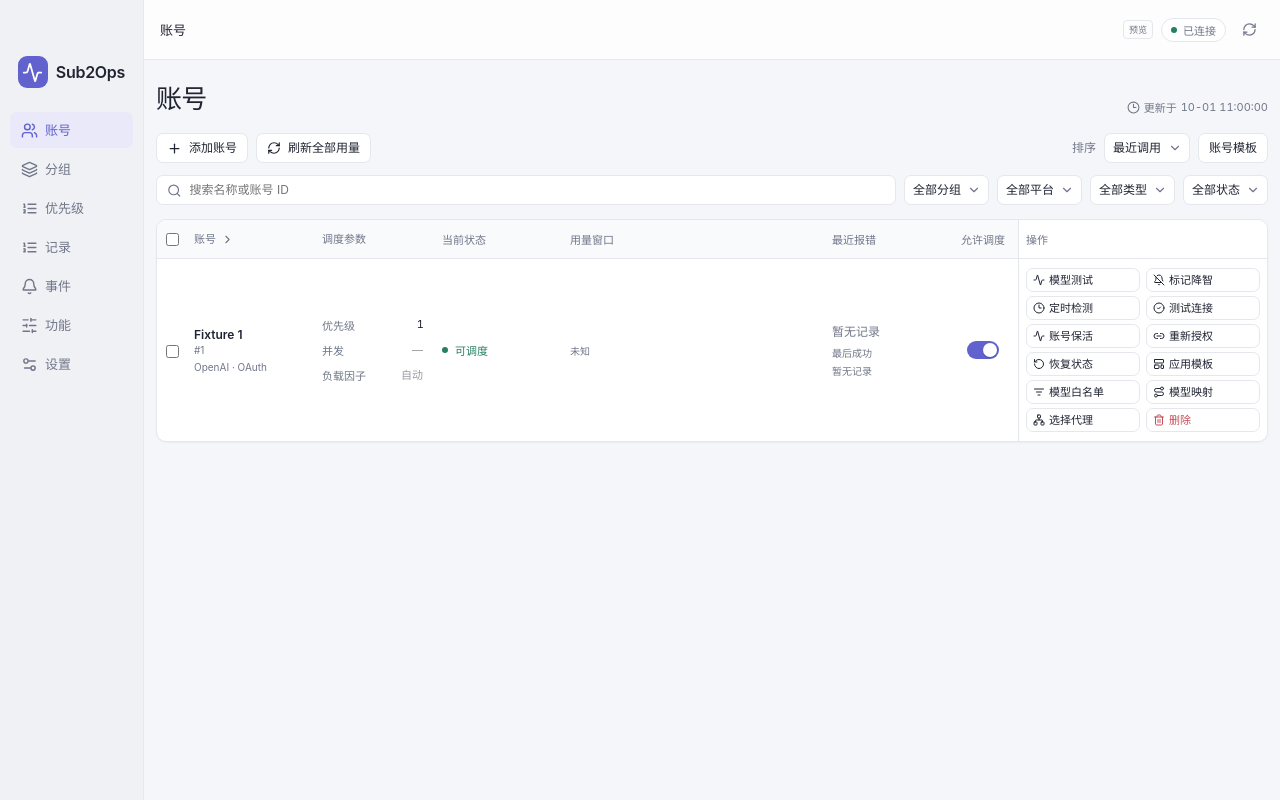
Test case: shared account actions › opens 定时检测 from the group card for that account
Click the button "分组" at (72, 169), box [10,151,133,187]
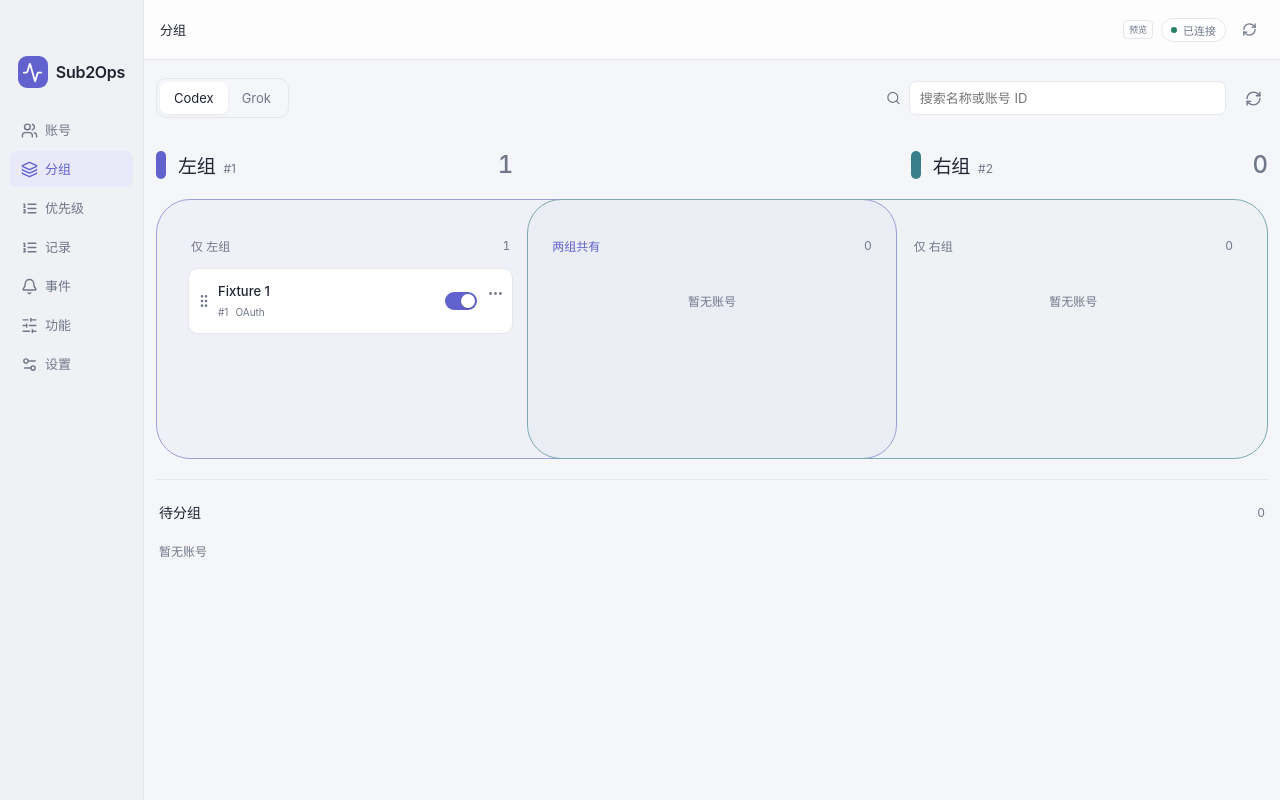
Click the button with class "account-more-trigger" at (495, 293), box [482,279,508,307]
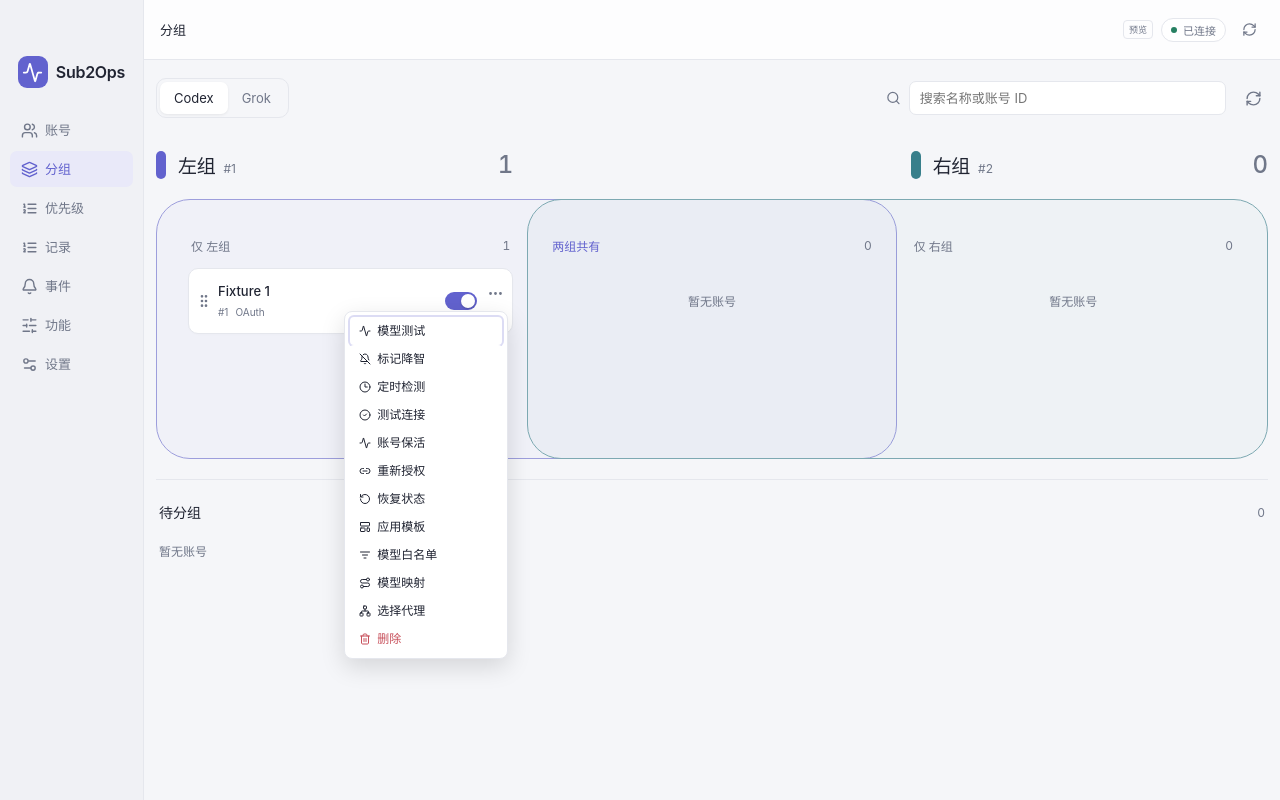
Click the button "定时检测" at (426, 387), box [350,373,502,401]
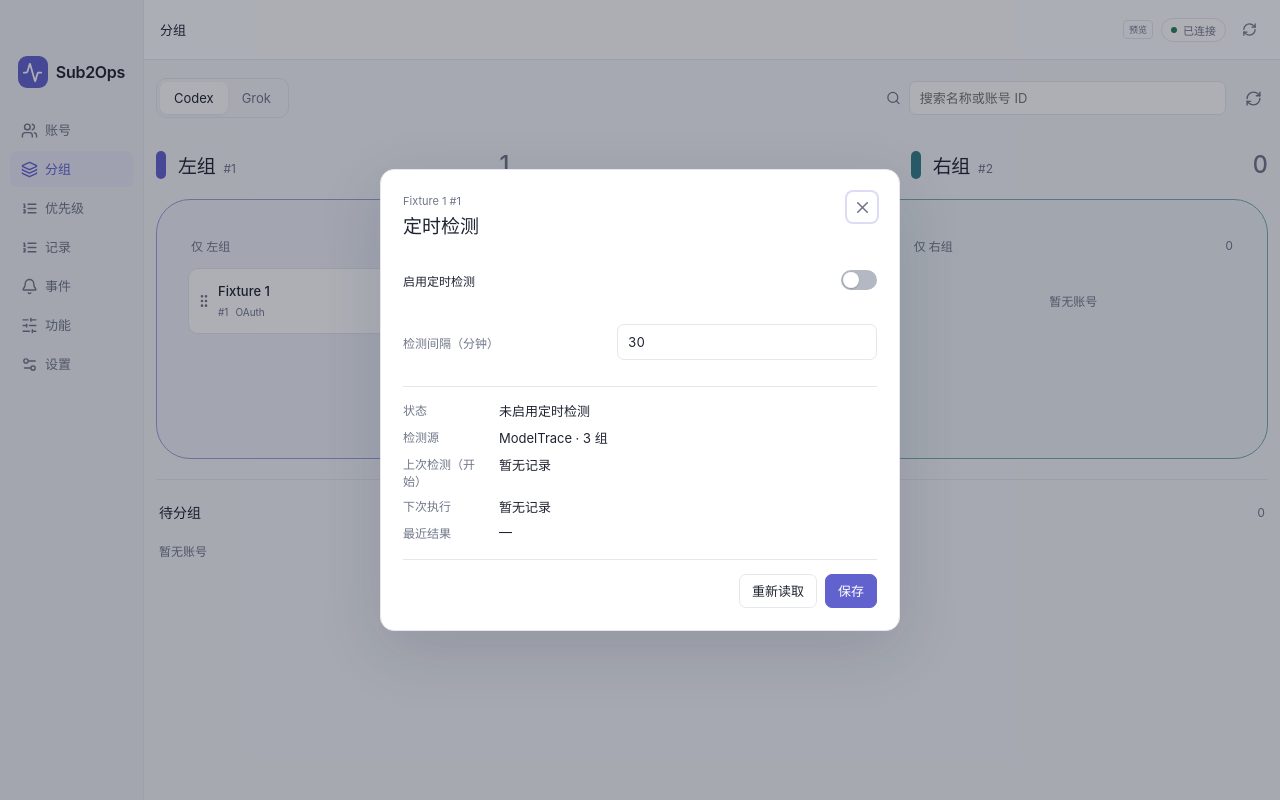
expect the element with class "account-action-popup" is gone: met
